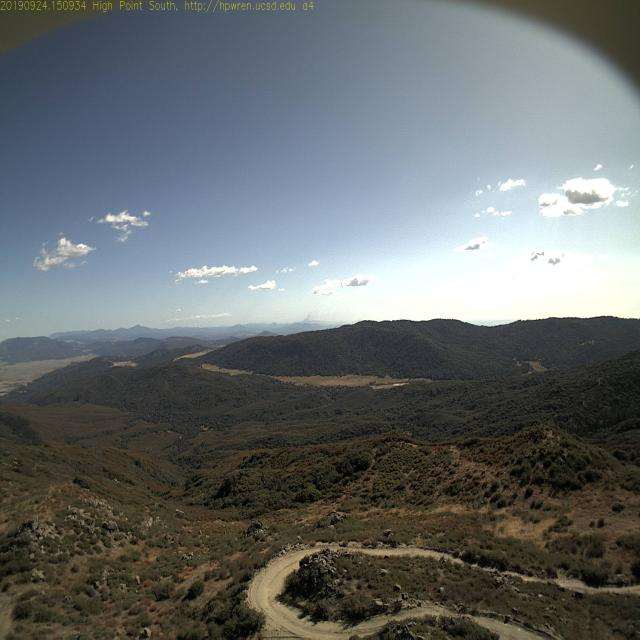smoke: (301, 308, 315, 325)
